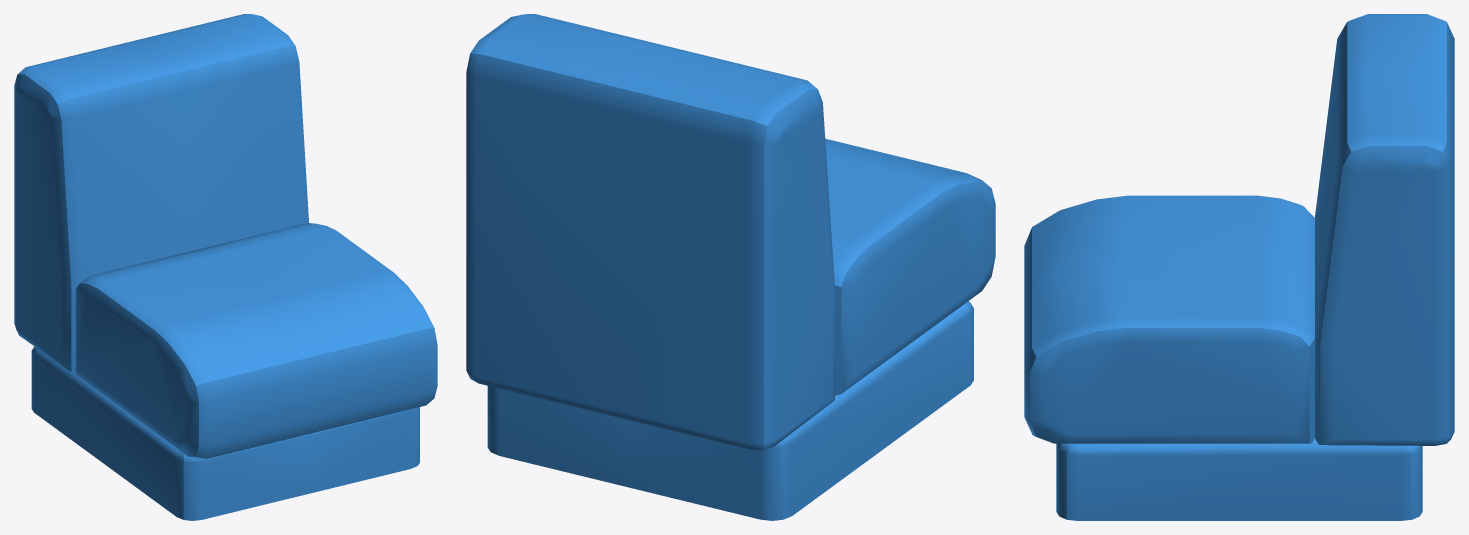
The model's file is obj_rewards_modularsofa01.fbx.
3 renders of one model, left to right at view 1: azimuth 30°, elevation 25°; view 2: azimuth 150°, elevation 25°; view 3: azimuth 270°, elevation 25°, orthographic. The views are drawn at different scales.
Parts seen in each view (by area): view 1: part4_lp.006; view 2: part4_lp.006; view 3: part4_lp.006.
Part boxes in pixels (left/top/right/bottom): part4_lp.006: left=14, top=14, right=437, bottom=520; part4_lp.006: left=466, top=14, right=995, bottom=520; part4_lp.006: left=1024, top=14, right=1454, bottom=520.
Bounding box in the file's own units: 3 × 3.89 × 4.
